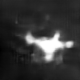plane: (24, 29, 79, 66)
